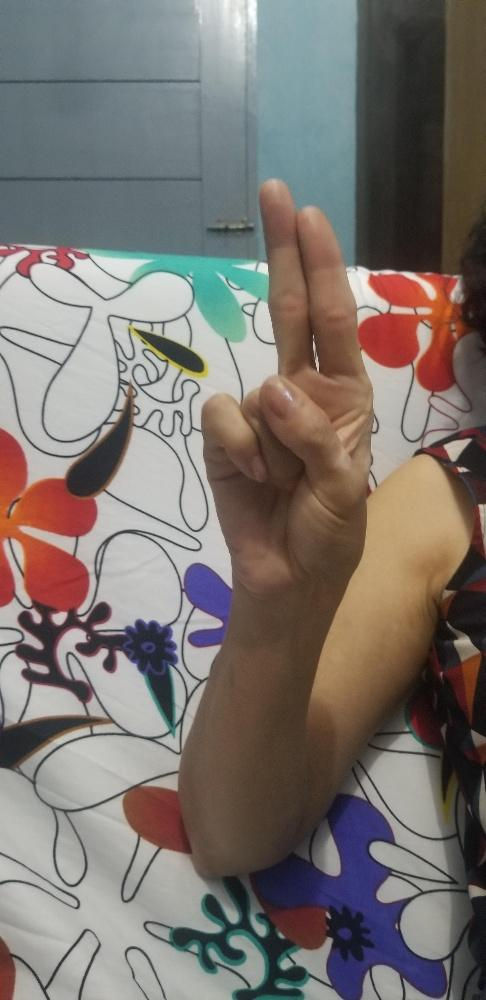u: (198, 175, 375, 594)
